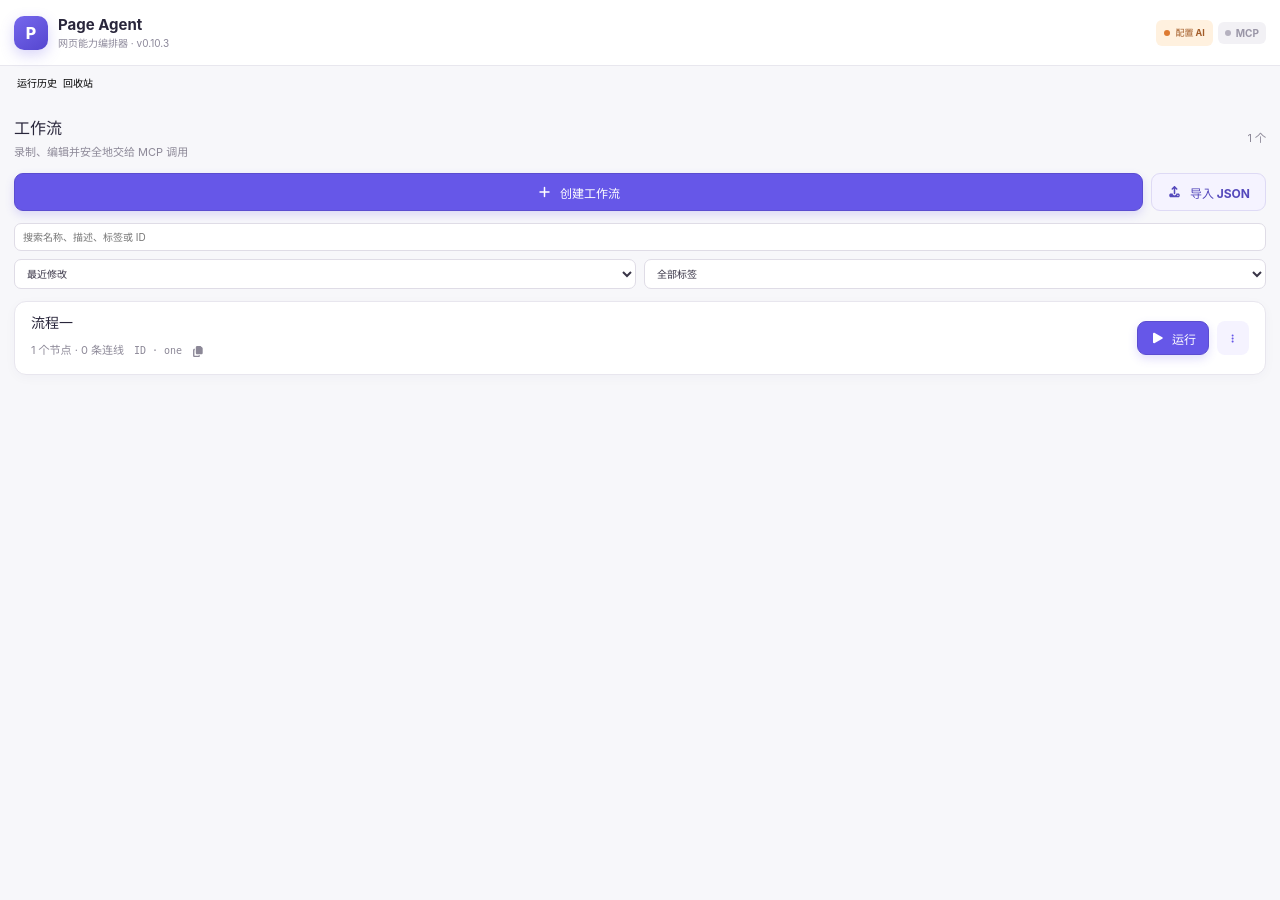
Test: workflow-first side panel › does not lock navigation when running a saved workflow fails to return a result
The image size is (1280, 900).
Step 1. Click the button "运行" → (1173, 338), box [1137, 321, 1209, 355]
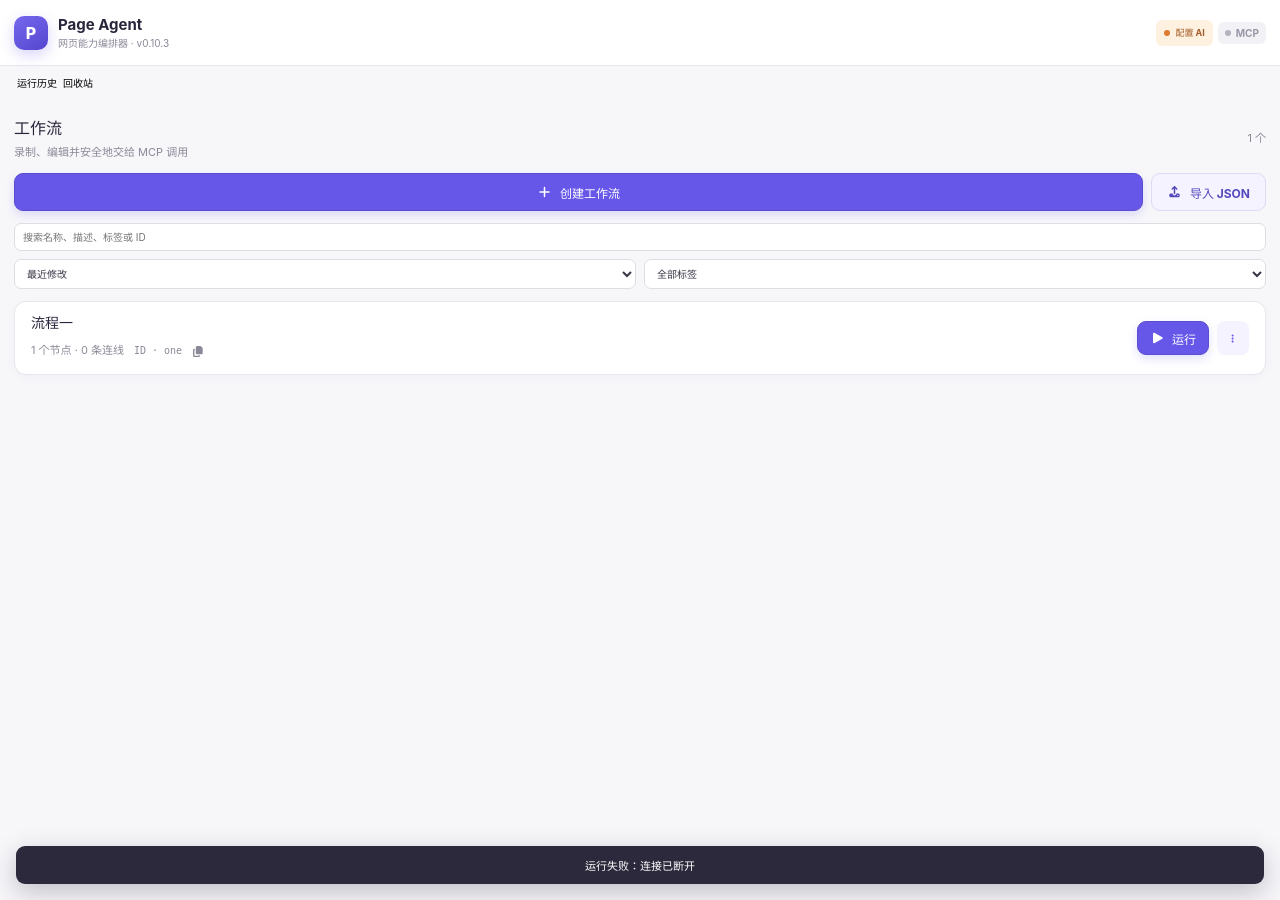
Expected: the button "流程一" is enabled, [31, 312, 73, 333]
Expected: the text "运行失败：连接已断开" is shown, [16, 846, 1264, 884]
